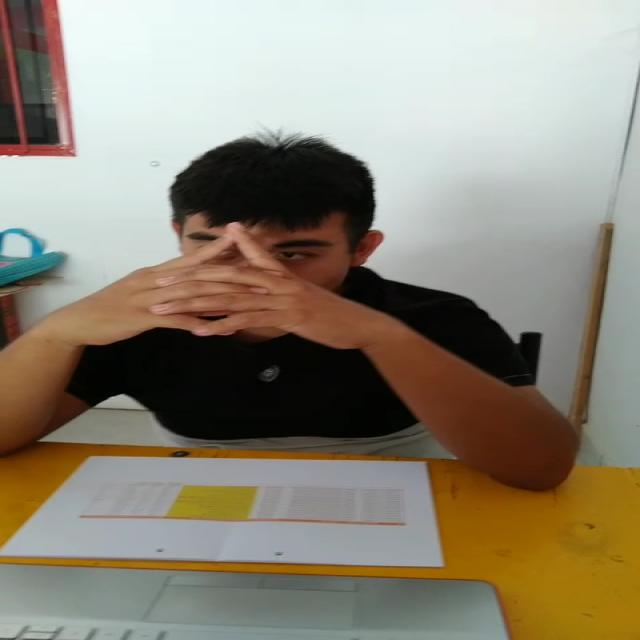7_mano_rostro: (116, 223, 359, 356)
